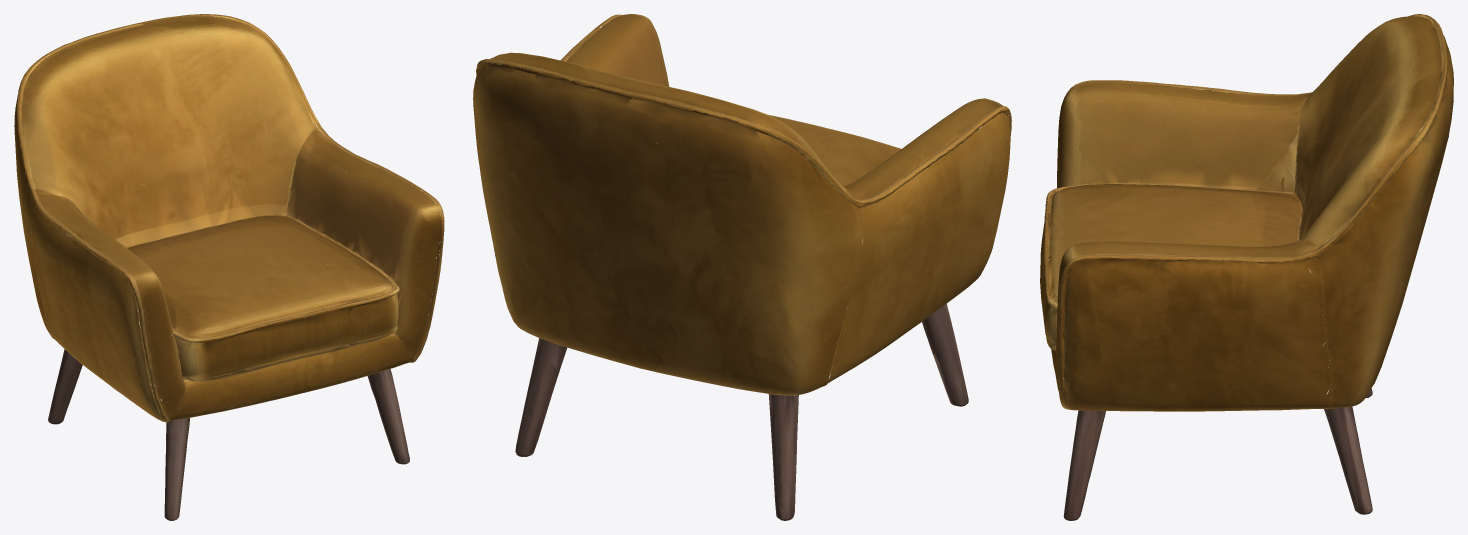
The model's file is chair-parts.glb.
3 views of the same model, side by side, from view 1: azimuth 30°, elevation 25°; view 2: azimuth 150°, elevation 25°; view 3: azimuth 270°, elevation 25° (orthographic). The views are drawn at different scales.
Bounding box in the file's own units: 0.7966 × 0.8198 × 0.7808.
Materials: 1 (1 with a texture image).
